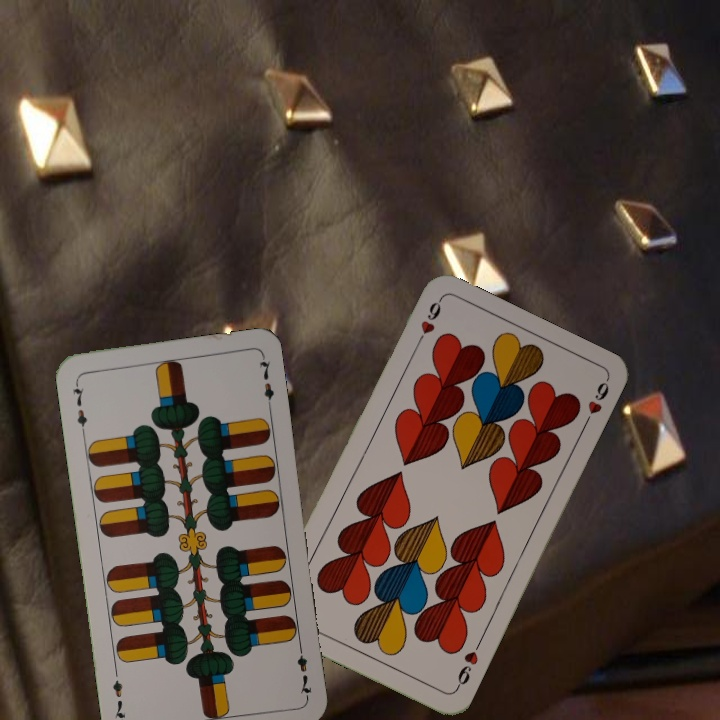E7: (68, 377, 90, 436), (293, 640, 314, 699)
H9: (451, 637, 484, 693), (411, 296, 444, 351)
